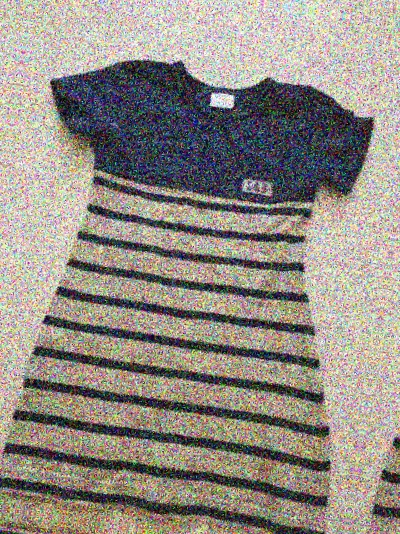Dress: (0, 20, 399, 534), (363, 86, 400, 534), (0, 0, 28, 493), (0, 509, 320, 534)
